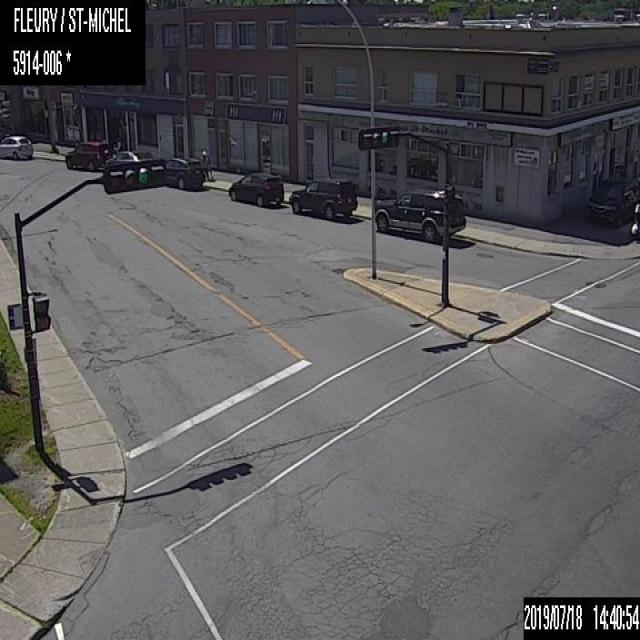pedestrian: (200, 148, 215, 181)
vehicle: (377, 186, 468, 242), (584, 174, 638, 228), (288, 177, 357, 219), (224, 168, 284, 207), (64, 140, 117, 171), (164, 153, 206, 191), (103, 146, 156, 173), (0, 133, 33, 160)
